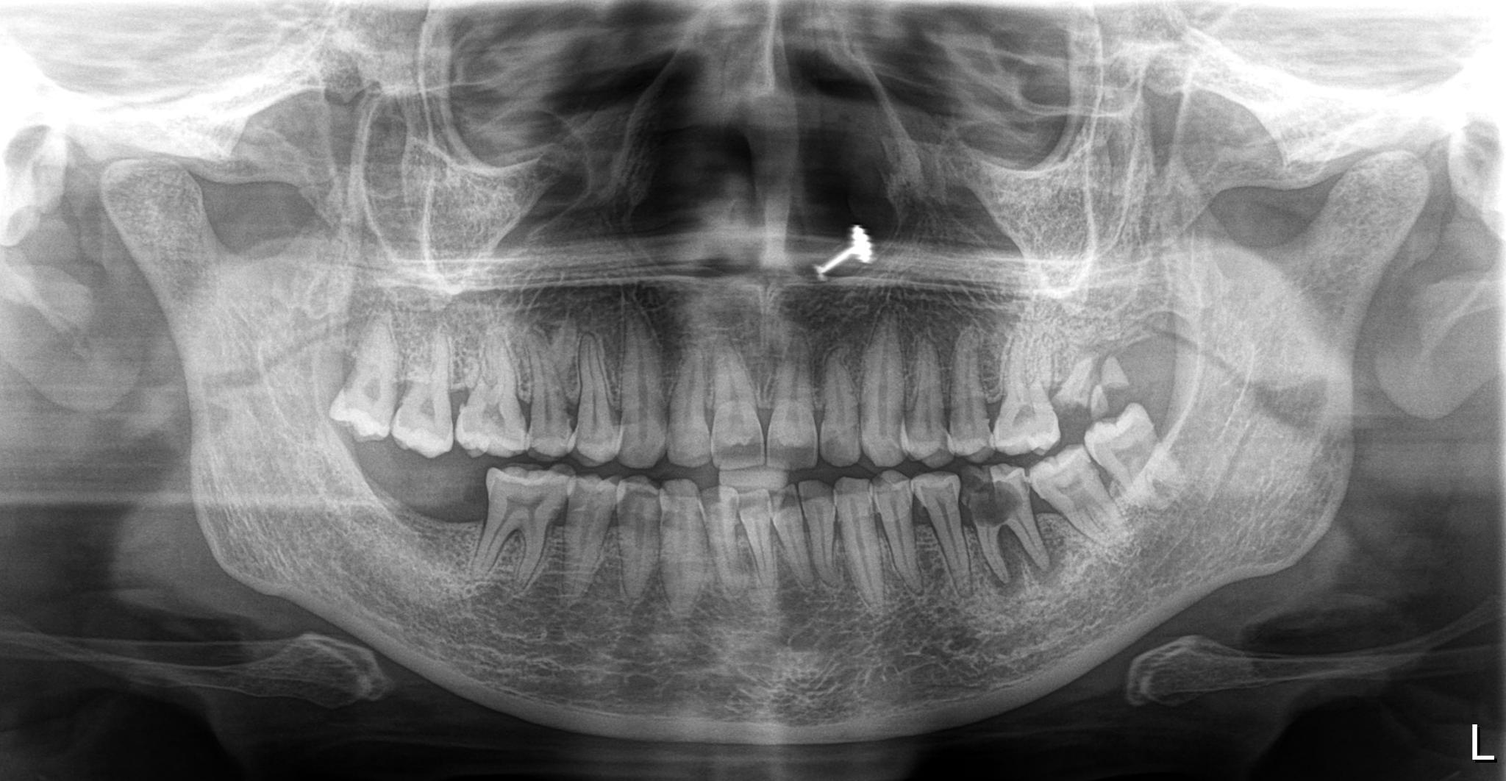Dental Caries: (963, 484, 1029, 522)
Endodontically Treated Tooth: (353, 450, 413, 582)
Retained Root: (1046, 316, 1129, 413)
